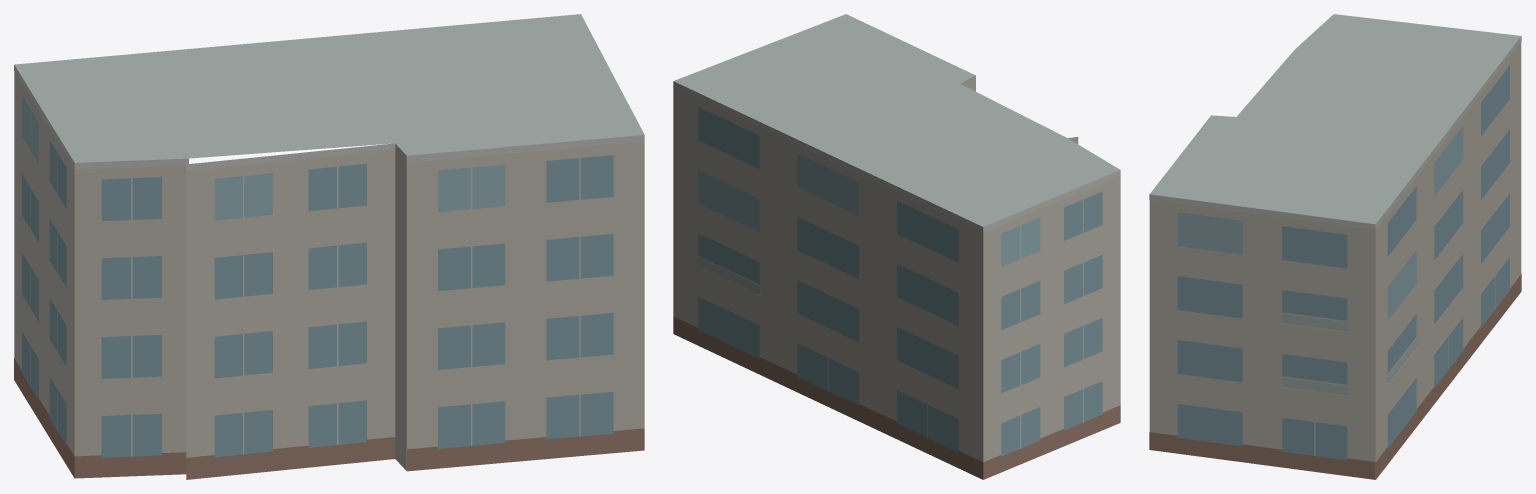
The model's file is survey-upis-32601716.glb.
3 renders of one model, left to right at view 1: azimuth 30°, elevation 25°; view 2: azimuth 150°, elevation 25°; view 3: azimuth 270°, elevation 25°, orthographic. The views are drawn at different scales.
Visible parts, largest first — view 1: survey-upis-32601716.tmp; view 2: survey-upis-32601716.tmp; view 3: survey-upis-32601716.tmp.
Boxes of the visible parts, <box> form: survey-upis-32601716.tmp: <box>14,14,644,479</box>; survey-upis-32601716.tmp: <box>673,14,1120,479</box>; survey-upis-32601716.tmp: <box>1149,14,1521,479</box>.
Size of the model in its own units: 19.96 by 11.3 by 14.92.
